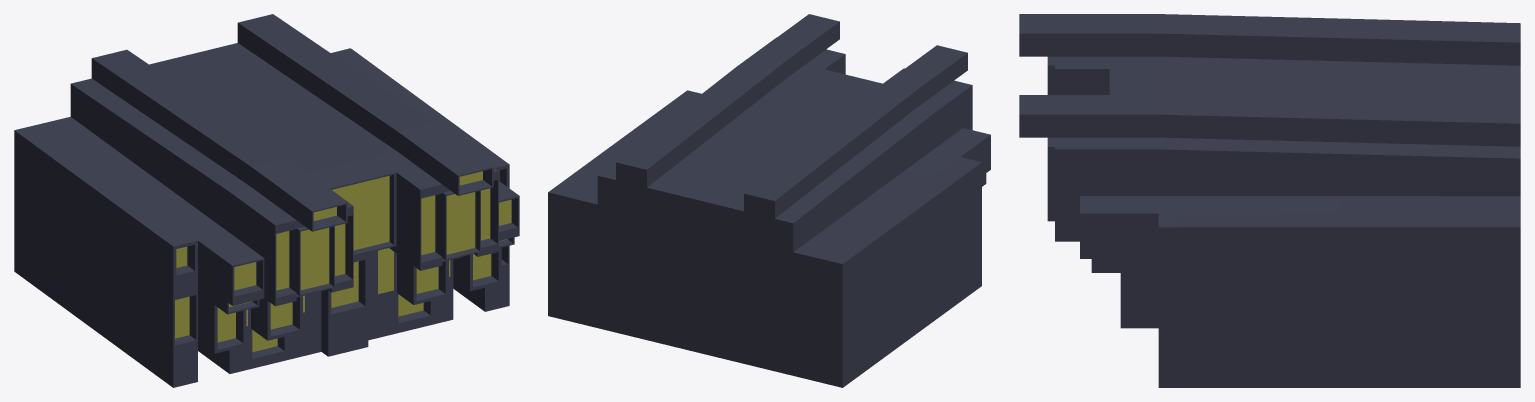
Rendered from apartments1.fbx.
The picture shows the model from 3 angles, left to right: view 1: azimuth 30°, elevation 25°; view 2: azimuth 150°, elevation 25°; view 3: azimuth 270°, elevation 25°; orthographic projection. The views are drawn at different scales.
Visible parts, largest first — view 1: pCube1; view 2: pCube1; view 3: pCube1.
Part boxes in pixels (bbox=[...]): pCube1: bbox=[14, 14, 519, 387]; pCube1: bbox=[548, 14, 990, 387]; pCube1: bbox=[1019, 14, 1520, 387].
Size of the model in its own units: 21.84 by 12.56 by 24.79.
